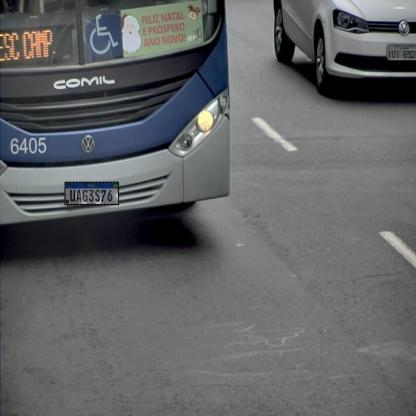PlacaM: (65, 182, 119, 205)
